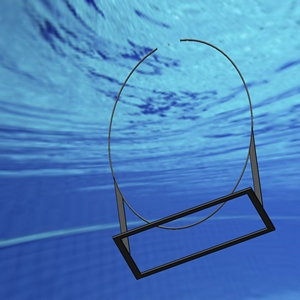circle: (108, 35, 278, 281), (273, 227, 277, 238)
